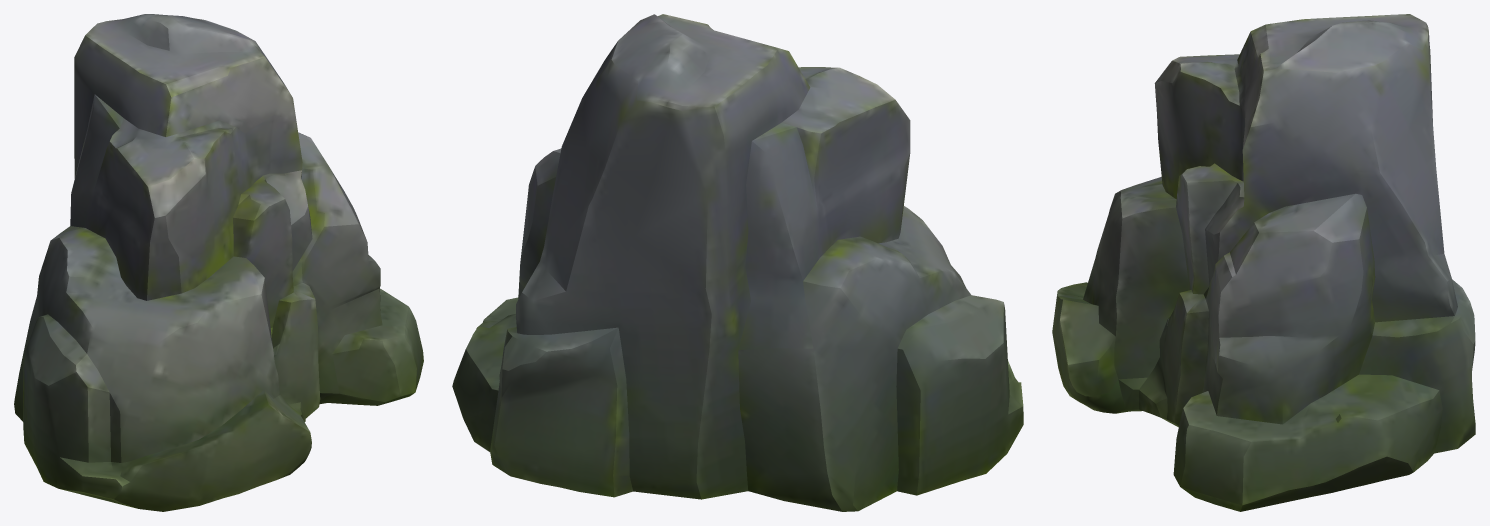
Rendered from Rock_Big_1.glb.
3 renders of one model, left to right at view 1: azimuth 30°, elevation 25°; view 2: azimuth 150°, elevation 25°; view 3: azimuth 270°, elevation 25°, orthographic. The views are drawn at different scales.
Visible parts, largest first — view 1: Rock_Big_1; view 2: Rock_Big_1; view 3: Rock_Big_1.
Boxes of the visible parts, x1,y1,x2,y2 form: Rock_Big_1: [14, 14, 423, 511]; Rock_Big_1: [452, 14, 1023, 511]; Rock_Big_1: [1052, 14, 1475, 511].
Bounding box in the file's own units: 5.2 × 4.58 × 4.45.
1 material, 1 textured.
